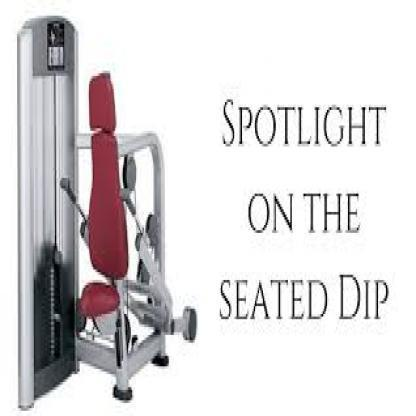seated dip machine: (16, 16, 197, 406)
